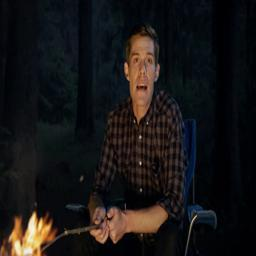fire: (0, 210, 55, 256)
